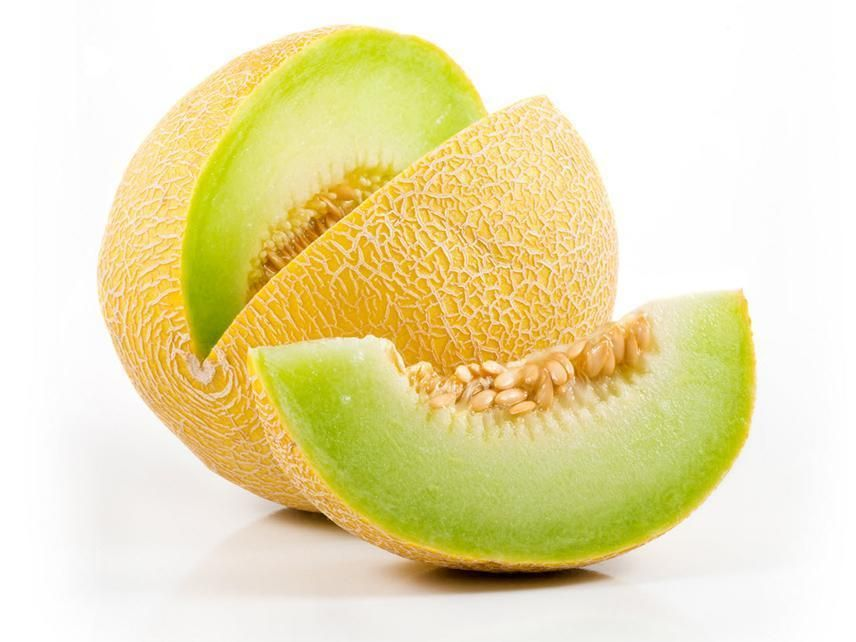Melon: (256, 280, 776, 576)
